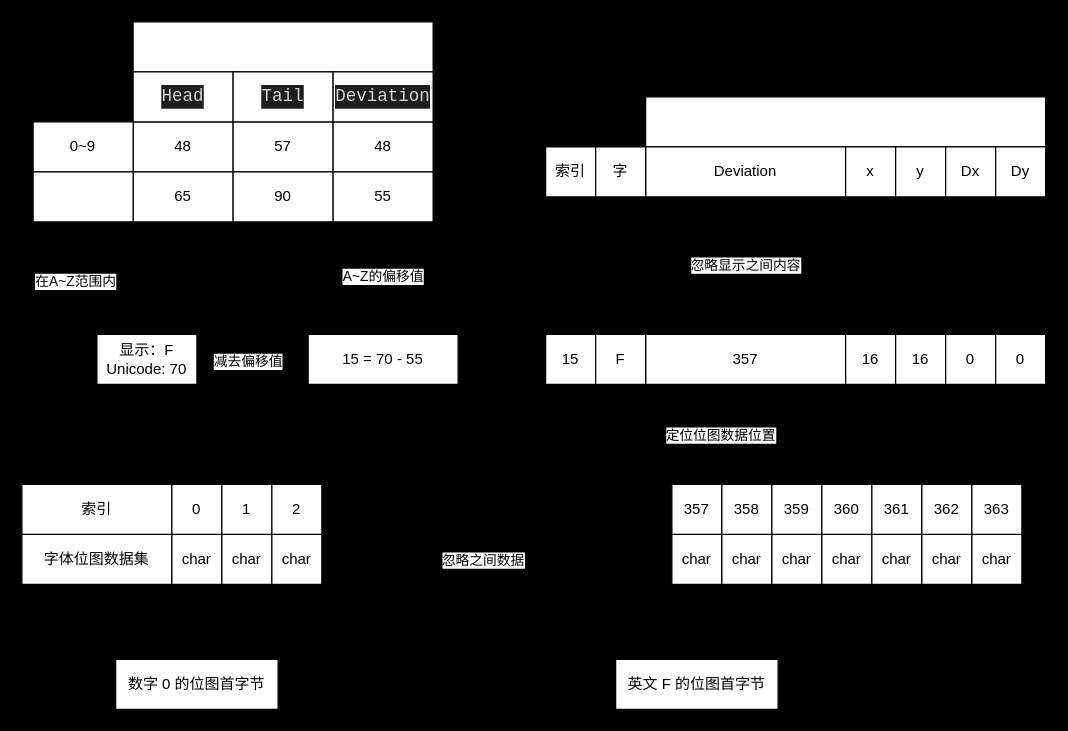
The diagram is 1068 pixels wide and 731 high, and some of its shapes have lost their labels. Each missing label, with the centre of its shape:
"A~Z" belongs at point (82, 196).
"FontInformation" belongs at point (845, 121).
"UnicodeRange" belongs at point (282, 46).
